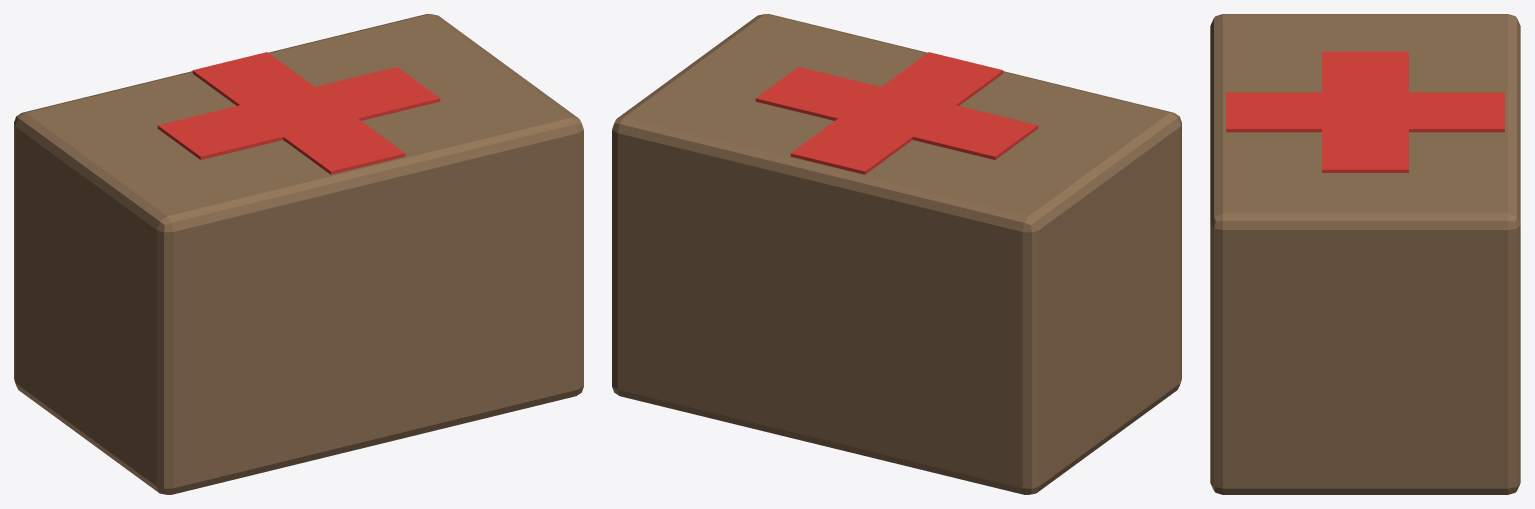
File: SupplyCrate_Large.fbx
3 views of the same model, side by side, from view 1: azimuth 30°, elevation 25°; view 2: azimuth 150°, elevation 25°; view 3: azimuth 270°, elevation 25° (orthographic).
Visible parts, largest first — view 1: SM_SupplyCrate_Large_Export; view 2: SM_SupplyCrate_Large_Export; view 3: SM_SupplyCrate_Large_Export.
Boxes of the visible parts, x1=… form: SM_SupplyCrate_Large_Export: x1=14, y1=14, x2=583, y2=494; SM_SupplyCrate_Large_Export: x1=612, y1=14, x2=1181, y2=494; SM_SupplyCrate_Large_Export: x1=1210, y1=14, x2=1520, y2=494.
Size of the model in its own units: 80 by 50.6 by 50.
